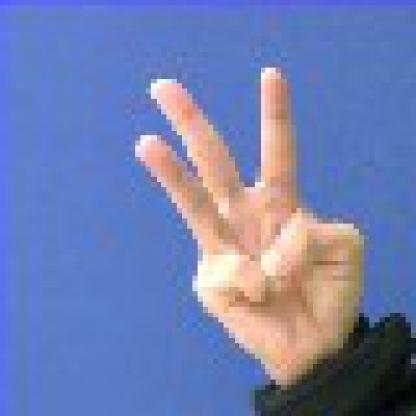three: (133, 60, 370, 396)
